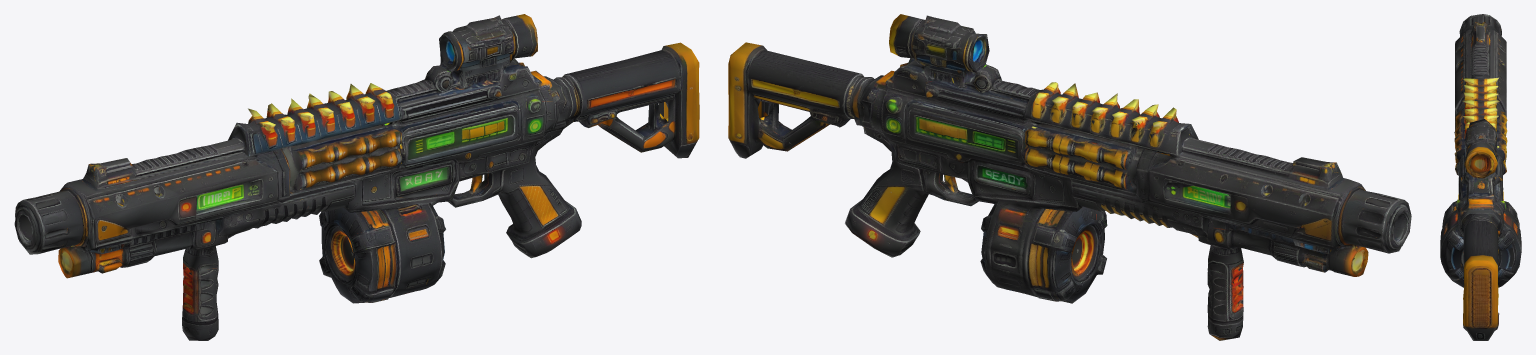
The model's file is 3_Weapon_Neon_Ember_Blaster_0417161106_texture.glb.
3 views of the same model, side by side, from view 1: azimuth 30°, elevation 25°; view 2: azimuth 150°, elevation 25°; view 3: azimuth 270°, elevation 25° (orthographic). The views are drawn at different scales.
Visible parts, largest first — view 1: Mesh1.0; view 2: Mesh1.0; view 3: Mesh1.0.
Part boxes in pixels (<box>): Mesh1.0: <box>14,14,699,340</box>; Mesh1.0: <box>728,14,1411,340</box>; Mesh1.0: <box>1440,14,1521,340</box>.
Bounding box in the file's own units: 1.91 × 0.6831 × 0.2669.
1 material, 1 textured.
